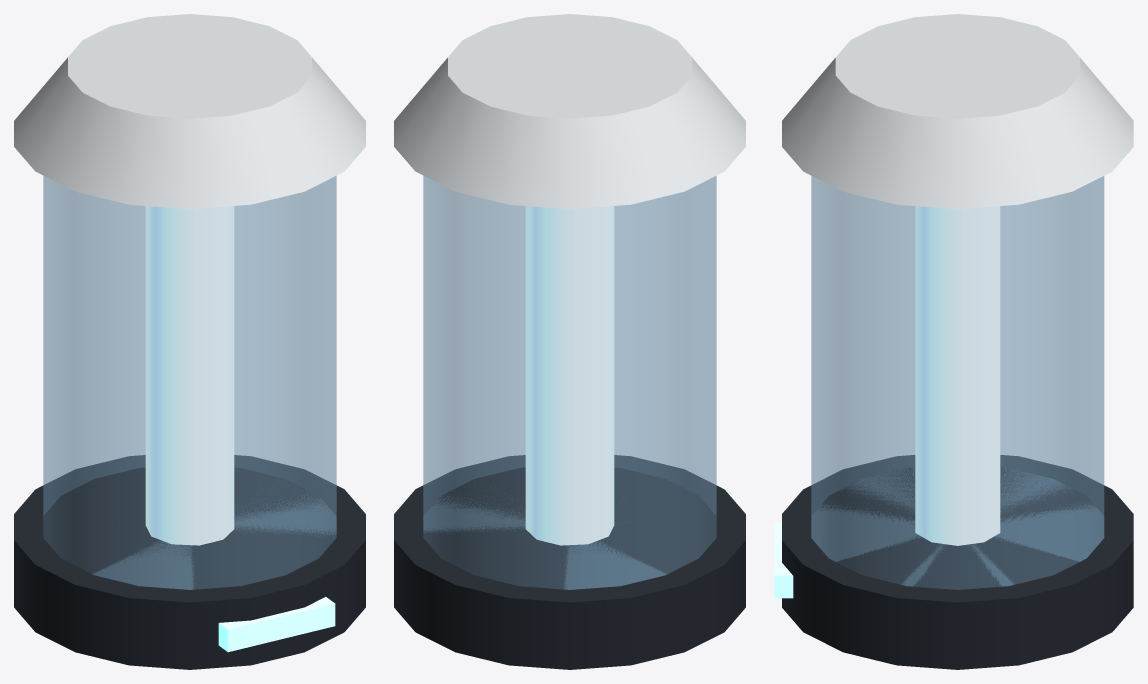
Rendered from os_cryo_pod.glb.
The picture shows the model from 3 angles, left to right: view 1: azimuth 30°, elevation 25°; view 2: azimuth 150°, elevation 25°; view 3: azimuth 270°, elevation 25°; orthographic projection.
Visible parts, largest first — view 1: os_cryo_pod; view 2: os_cryo_pod; view 3: os_cryo_pod.
Boxes of the visible parts, box(x1,y1,x2,y2) form: os_cryo_pod: box(14, 14, 365, 669); os_cryo_pod: box(394, 14, 745, 669); os_cryo_pod: box(774, 14, 1133, 669).
Bounding box in the file's own units: 1.44 × 2.35 × 1.45.
